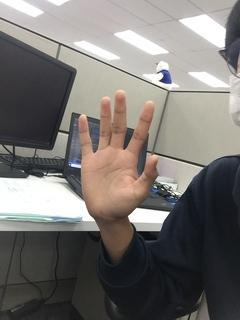hand: (76, 90, 160, 220)
